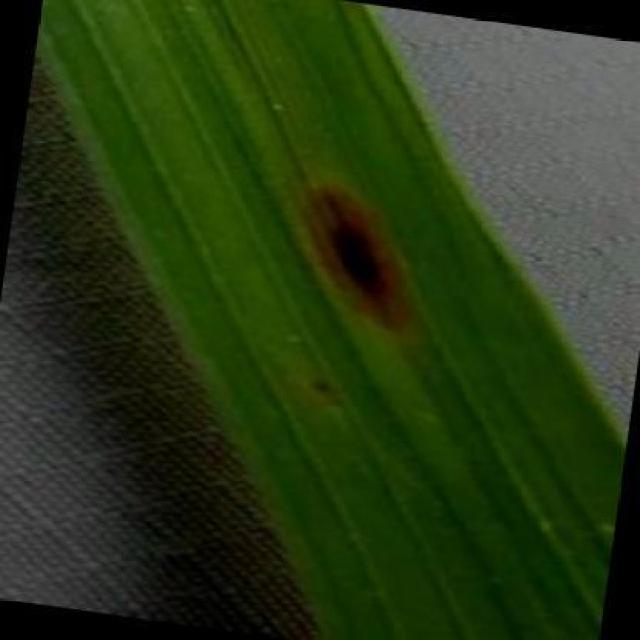Leaf_Blast: (277, 158, 448, 350), (250, 82, 305, 127), (293, 363, 356, 399)
